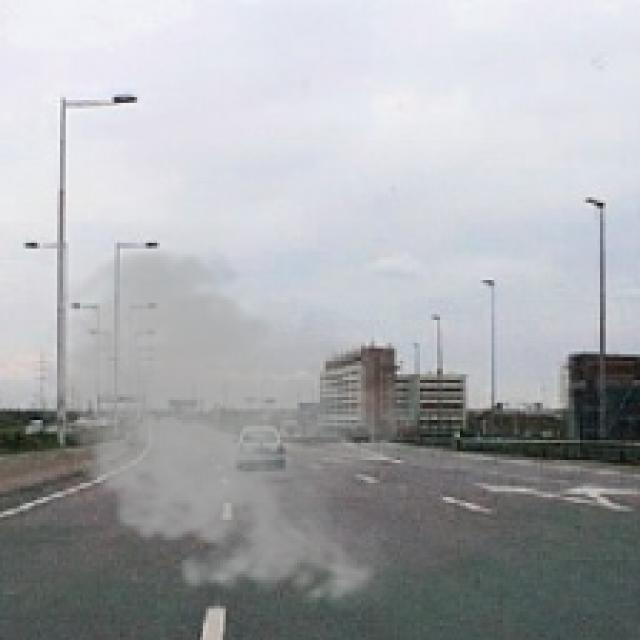Smoke: (31, 240, 420, 614)
